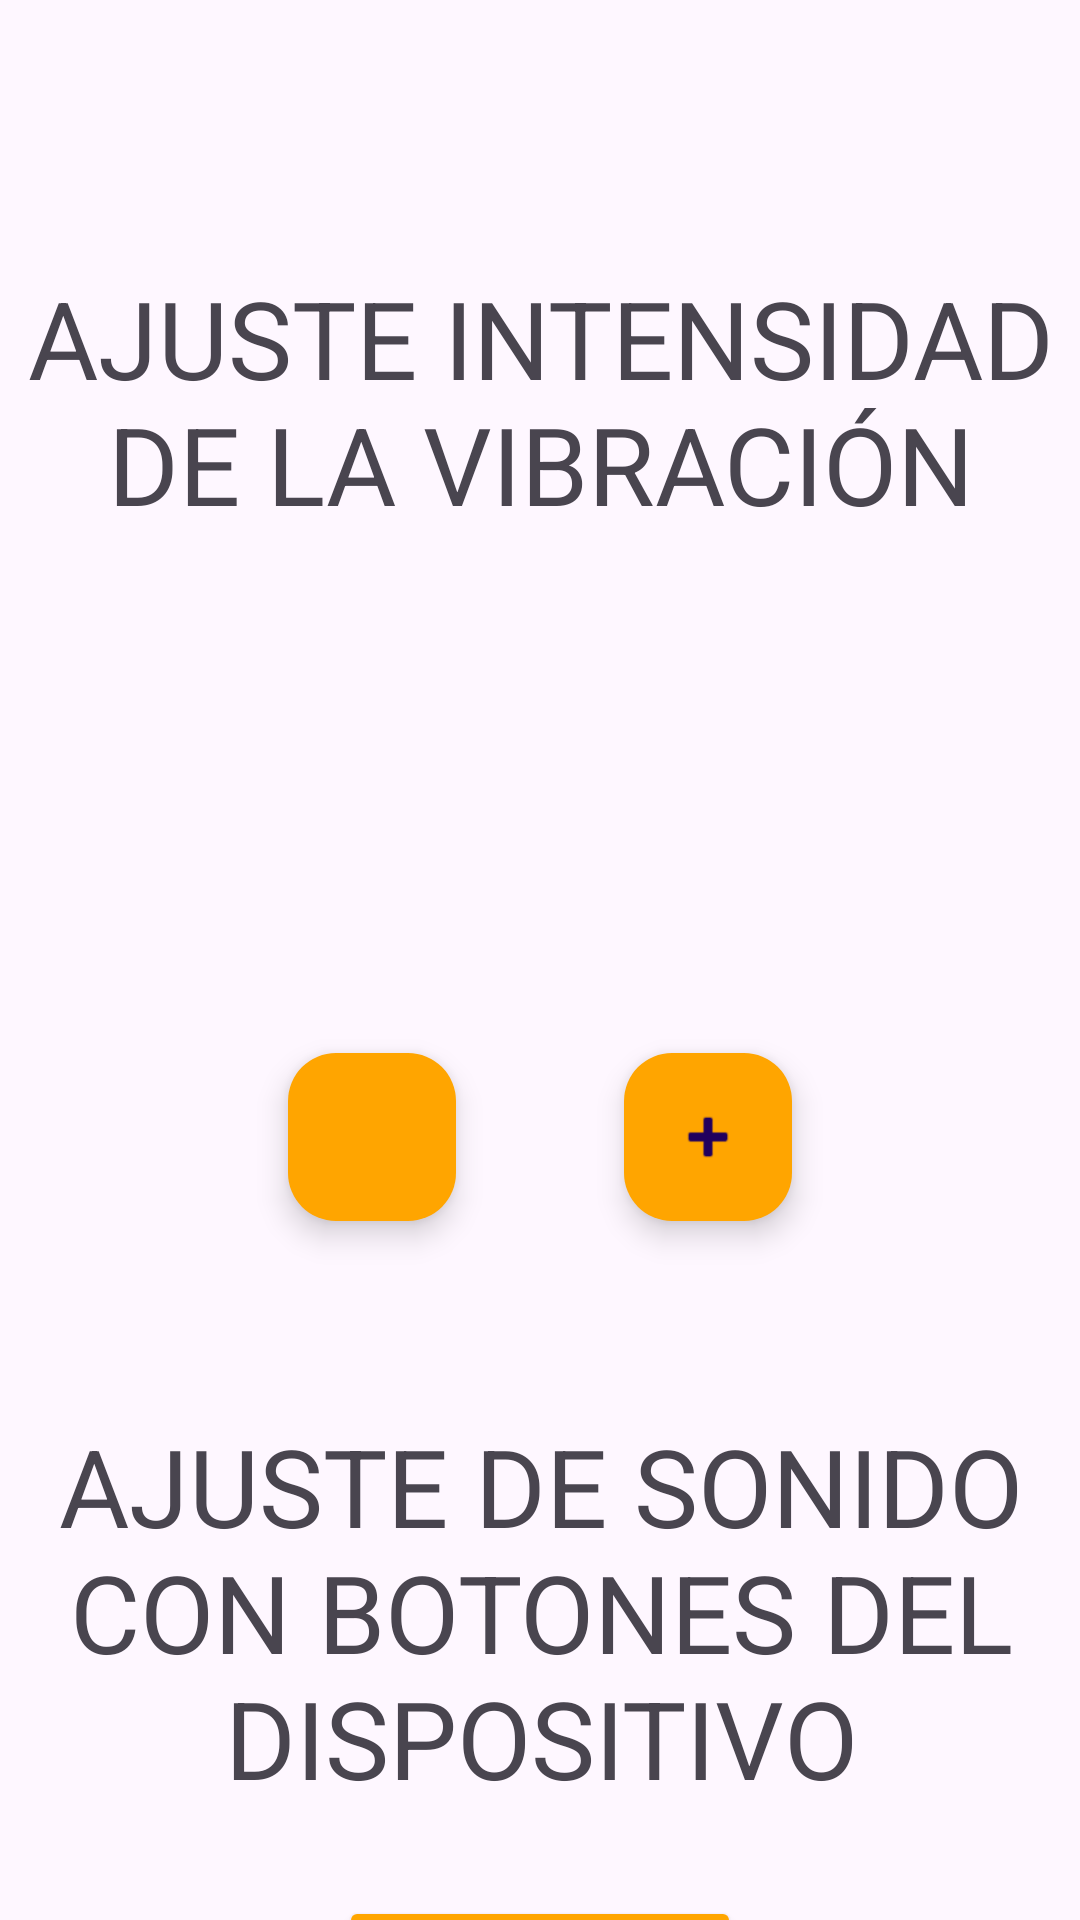

Icons on this 1080×1920 Android screen, each with its box as (x1, y1, x2, y2):
Aumentar intensidad de vibración: (624, 1053, 792, 1221)
